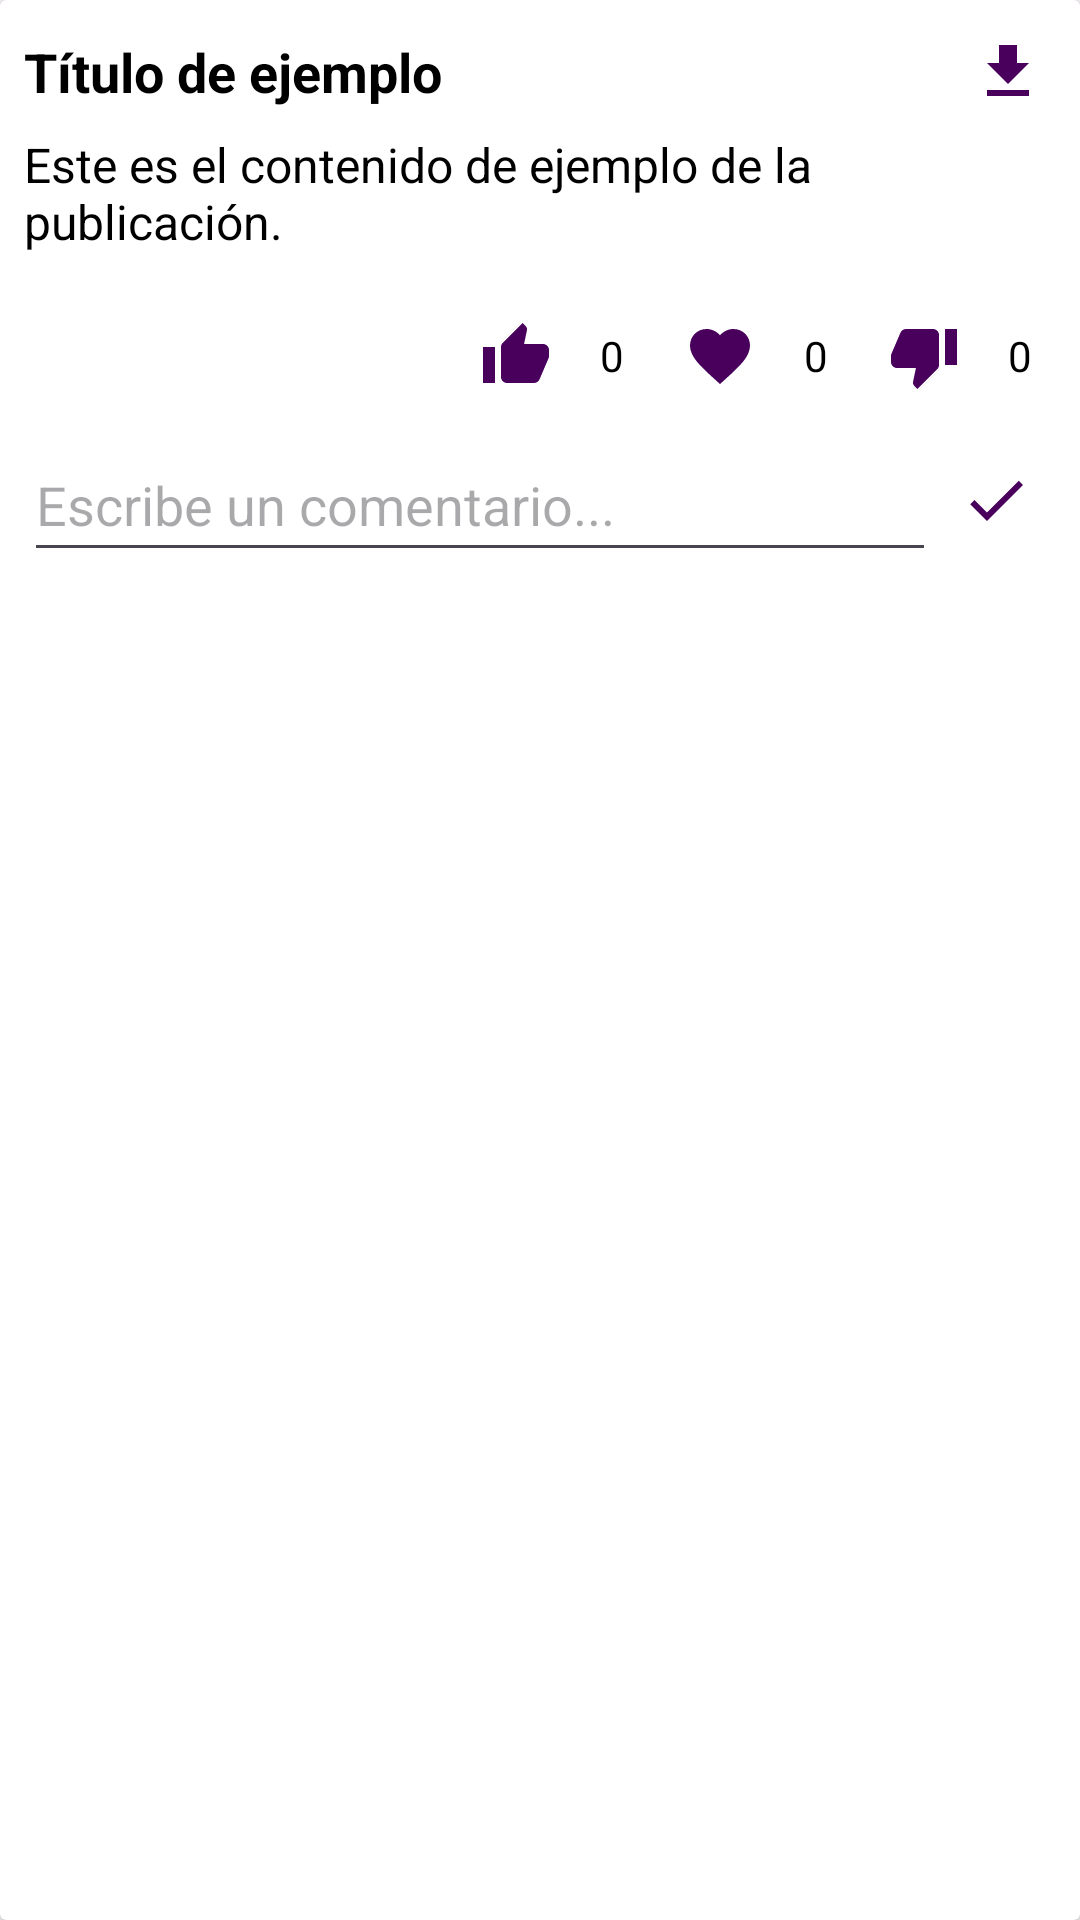

Point at icon controls on the screen. Image size 1080x1920, points as (x,y).
Confirmar comentario: (996,501)
Corazón: (720,356)
Descargar: (1008,70)
Me gusta: (516,353)
No me gusta: (924,359)
